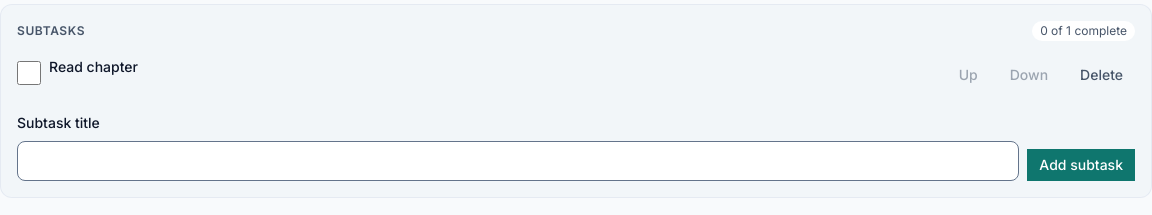
SubtaskChecklist (SP-120J) › disables that checklist’s controls while a mutation is in flight
Type "Next step" into the field labelled "Subtask title". click: [518, 161]
box: [17, 141, 1019, 181]
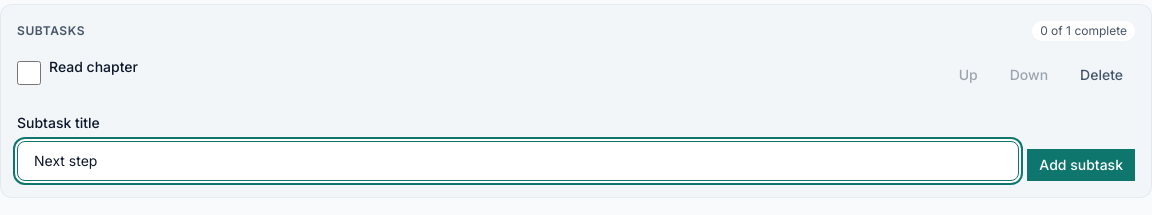
Click the button with aria-label "Add subtask to Problem Set 4". click: [1081, 165]
box: [1027, 149, 1135, 181]
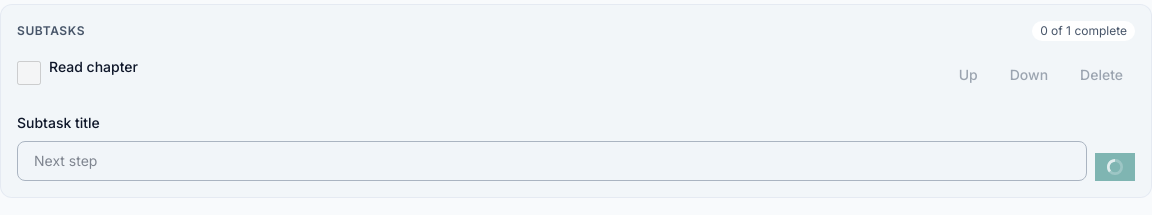
Expected: the button named "Add subtask to Problem Set 4" is disabled, [1095, 153, 1135, 181]
Expected: the checkbox labelled "Read chapter" is disabled, [17, 61, 41, 85]
Expected: the button with aria-label "Delete Read chapter" is disabled, [1068, 59, 1135, 91]
